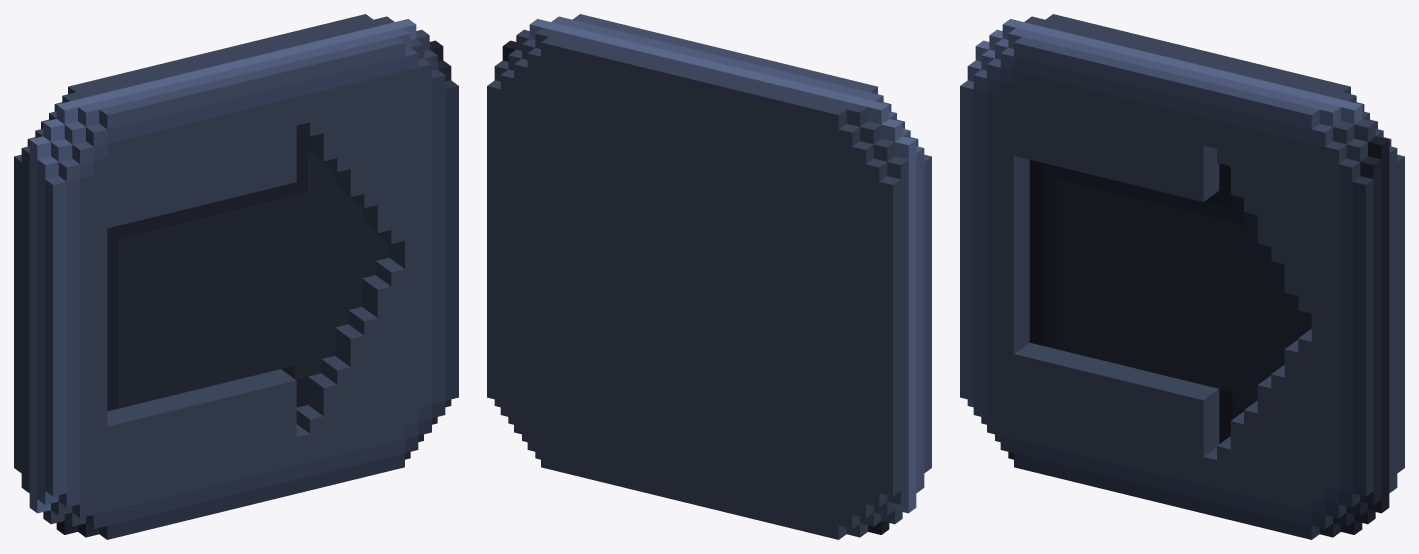
The model's file is Corto.obj.
3 views of the same model, side by side, from view 1: azimuth 30°, elevation 25°; view 2: azimuth 150°, elevation 25°; view 3: azimuth 330°, elevation 25° (orthographic).
Bounding box in the file's own units: 3 × 3 × 0.5.
Materials: 1 (1 with a texture image).
